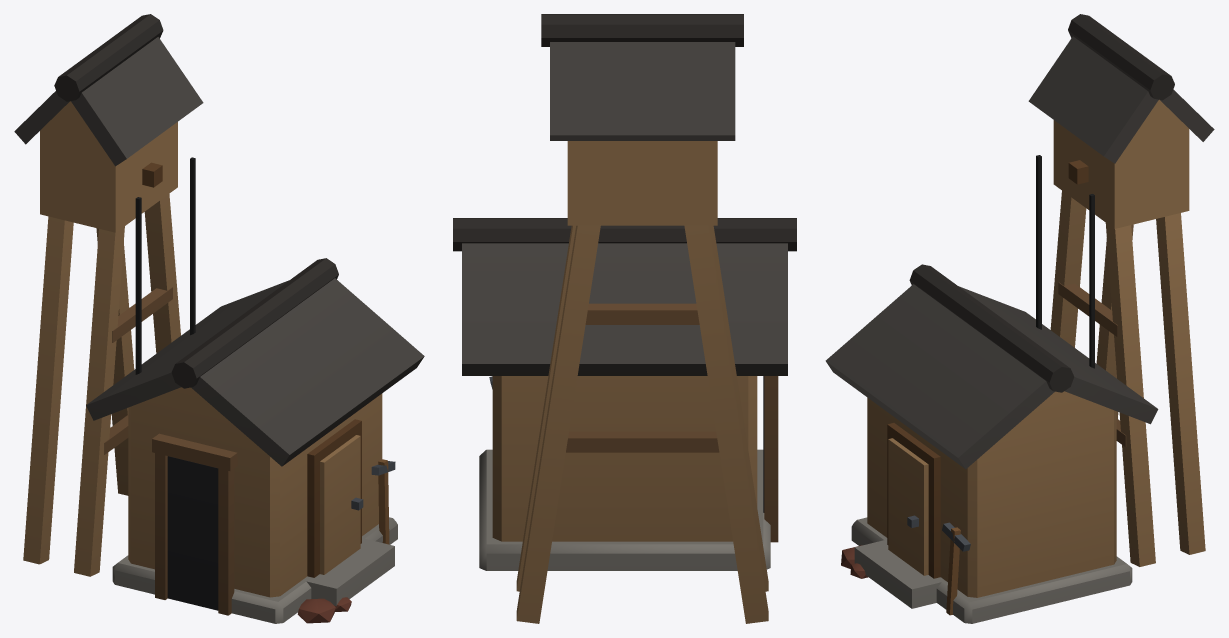
The model's file is building_14.glb.
3 views of the same model, side by side, from view 1: azimuth 30°, elevation 25°; view 2: azimuth 150°, elevation 25°; view 3: azimuth 270°, elevation 25° (orthographic). The views are drawn at different scales.
Visible parts, largest first — view 1: building_14; view 2: building_14; view 3: building_14.
Boxes of the visible parts, x1,y1,x2,y2 form: building_14: (14, 14, 424, 623); building_14: (453, 14, 796, 623); building_14: (825, 14, 1214, 623).
Bounding box in the file's own units: 0.5184 × 0.754 × 0.5423.
